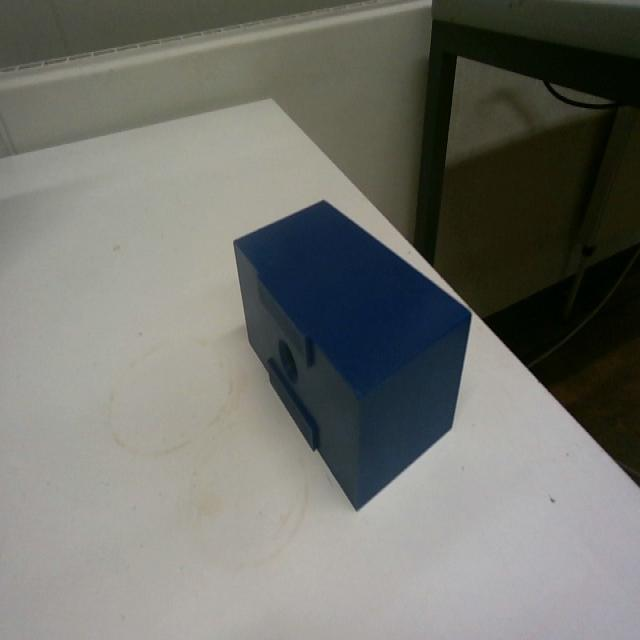Blue Cuboid: (230, 194, 473, 510)
